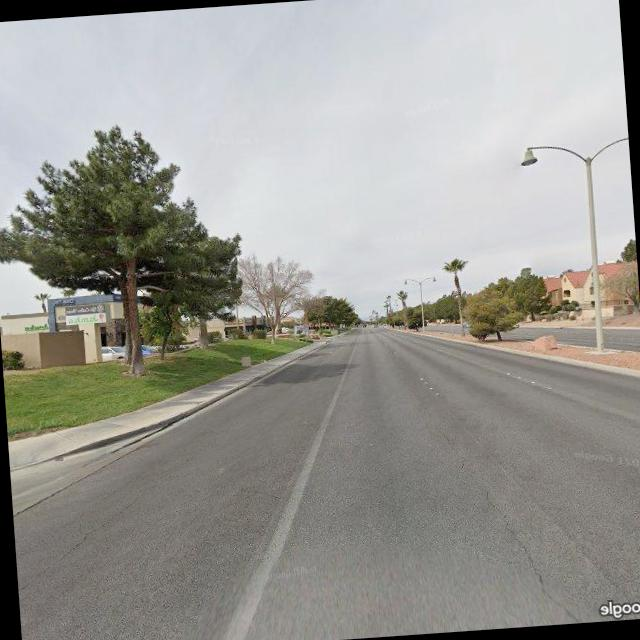pothole: (446, 426, 570, 612), (23, 482, 154, 586)
